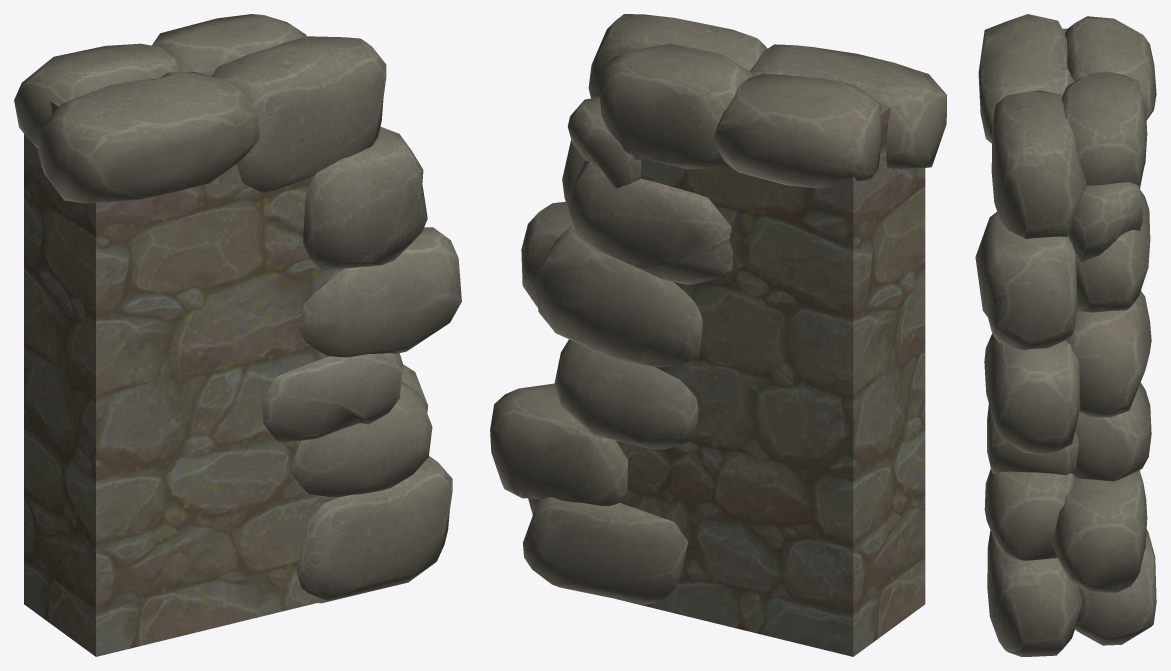
File: SM_FW01_Ruins_Int_Wall_A_1x4_Brkn_01.fbx
3 views of the same model, side by side, from view 1: azimuth 30°, elevation 25°; view 2: azimuth 150°, elevation 25°; view 3: azimuth 270°, elevation 25° (orthographic). The views are drawn at different scales.
Parts seen in each view (by area): view 1: SM_FW01_Ruins_Int_Wall_A_1x4_Brkn_01, SM_FW01_Ruins_Int_Wall_A_1x4_Brkn_01_LOD0; view 2: SM_FW01_Ruins_Int_Wall_A_1x4_Brkn_01_LOD0, SM_FW01_Ruins_Int_Wall_A_1x4_Brkn_01; view 3: SM_FW01_Ruins_Int_Wall_A_1x4_Brkn_01_LOD0.
Boxes of the visible parts, <box> form: SM_FW01_Ruins_Int_Wall_A_1x4_Brkn_01: <box>24,100,344,656</box>; SM_FW01_Ruins_Int_Wall_A_1x4_Brkn_01_LOD0: <box>14,14,461,603</box>; SM_FW01_Ruins_Int_Wall_A_1x4_Brkn_01_LOD0: <box>490,14,946,604</box>; SM_FW01_Ruins_Int_Wall_A_1x4_Brkn_01: <box>616,106,925,656</box>; SM_FW01_Ruins_Int_Wall_A_1x4_Brkn_01_LOD0: <box>975,14,1156,656</box>.
Size of what is drawn, in the model's own units: 1.59 by 2.11 by 0.6886.
